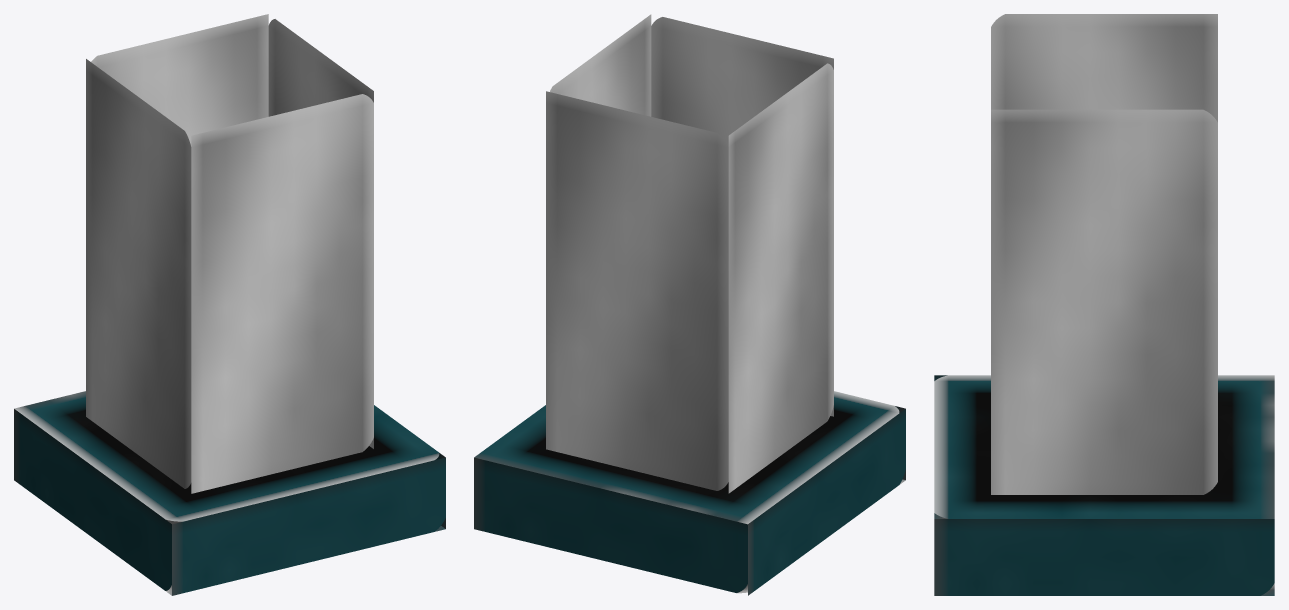
File: forging_press_1.obj
3 views of the same model, side by side, from view 1: azimuth 30°, elevation 25°; view 2: azimuth 150°, elevation 25°; view 3: azimuth 270°, elevation 25° (orthographic). The views are drawn at different scales.
Visible parts, largest first — view 1: cube.forge_cube.122; view 2: cube.forge_cube.122; view 3: cube.forge_cube.122.
Part boxes in pixels (box(x1,y1,x2,y2)): cube.forge_cube.122: box(14, 14, 445, 595); cube.forge_cube.122: box(474, 14, 905, 595); cube.forge_cube.122: box(934, 14, 1274, 595).
Size of the model in its own units: 0.75 by 1.12 by 0.75.
